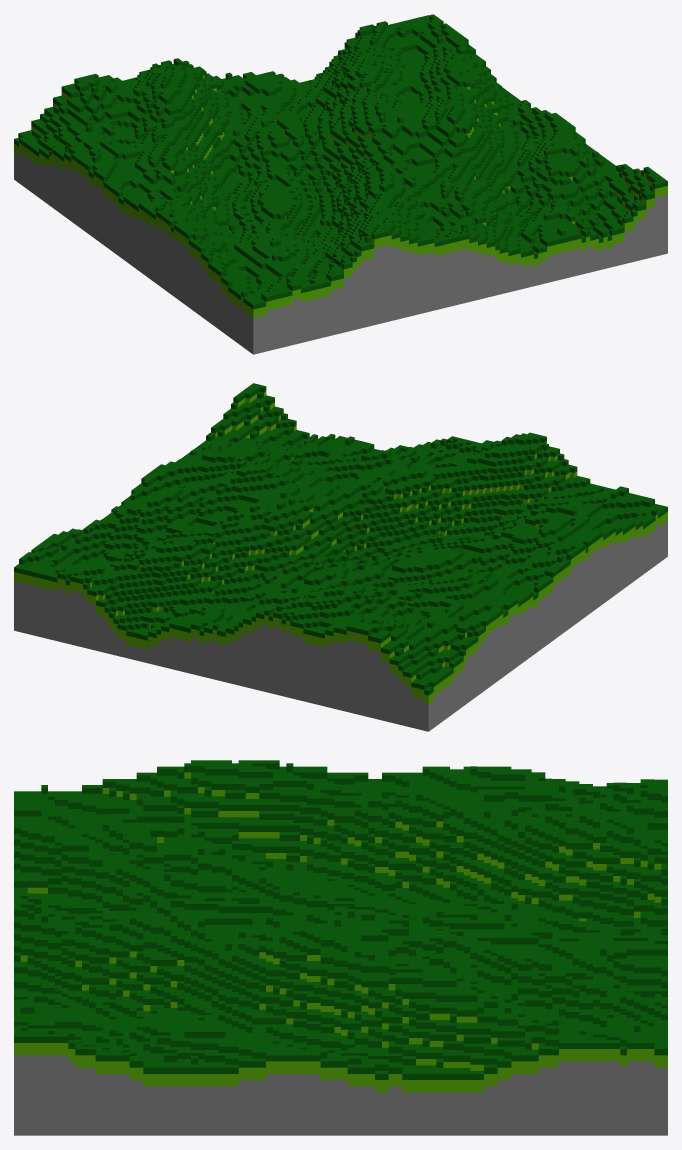
File: demo.glb
3 views of the same model, one above another, from view 1: azimuth 30°, elevation 25°; view 2: azimuth 150°, elevation 25°; view 3: azimuth 270°, elevation 25° (orthographic). The views are drawn at different scales.
Parts seen in each view (by area): view 1: level; view 2: level; view 3: level.
Part boxes in pixels (box(x1,y1,x2,y2)): level: box(14, 14, 667, 354); level: box(14, 383, 667, 731); level: box(14, 760, 667, 1135).
Size of the model in its own units: 96 by 20 by 96.
Materials: 1 (1 with a texture image).
